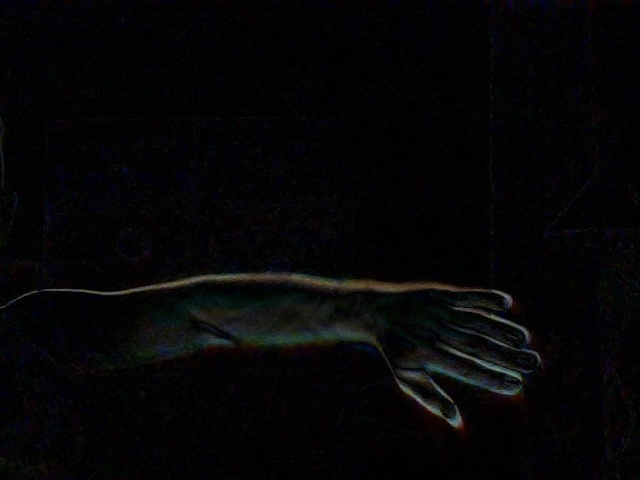hand_pa: (365, 275, 556, 430)
